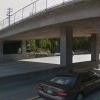Bridge: (4, 2, 98, 50)
